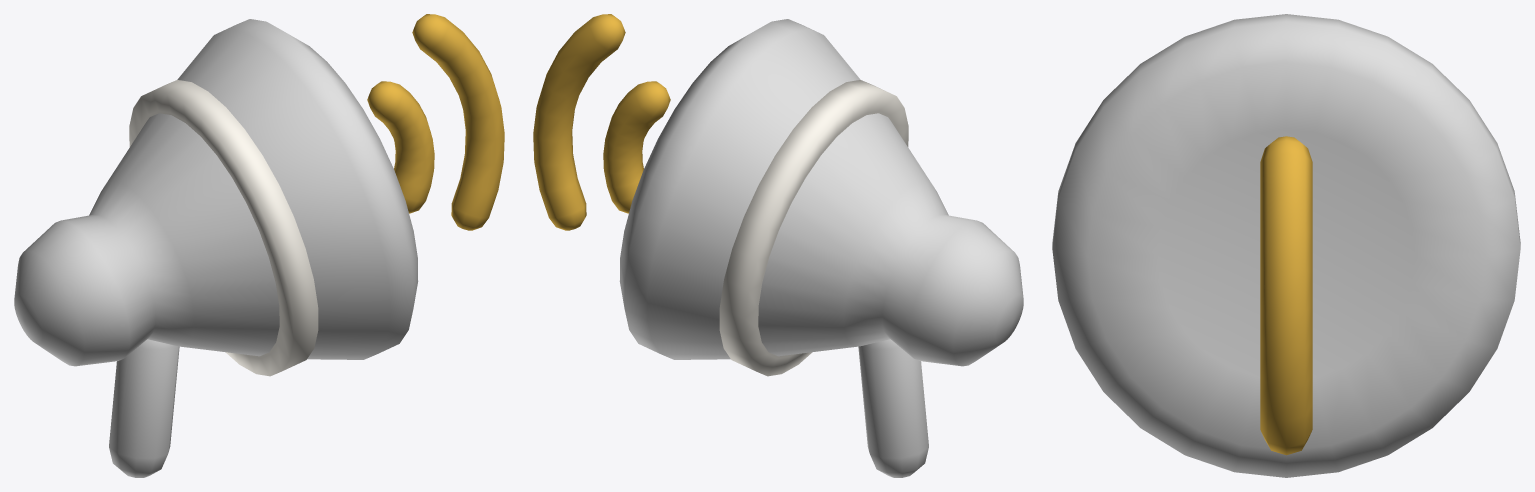
The model's file is megaphone.glb.
The picture shows the model from 3 angles, left to right: view 1: azimuth 30°, elevation 25°; view 2: azimuth 150°, elevation 25°; view 3: azimuth 270°, elevation 25°; orthographic projection. The views are drawn at different scales.
Visible parts, largest first — view 1: megaphone; view 2: megaphone; view 3: megaphone.
Boxes of the visible parts, x1,y1,x2,y2 form: megaphone: (14,14,504,477); megaphone: (533,14,1023,477); megaphone: (1052,14,1520,477).
Size of the model in its own units: 1 by 0.8118 by 0.6507.
